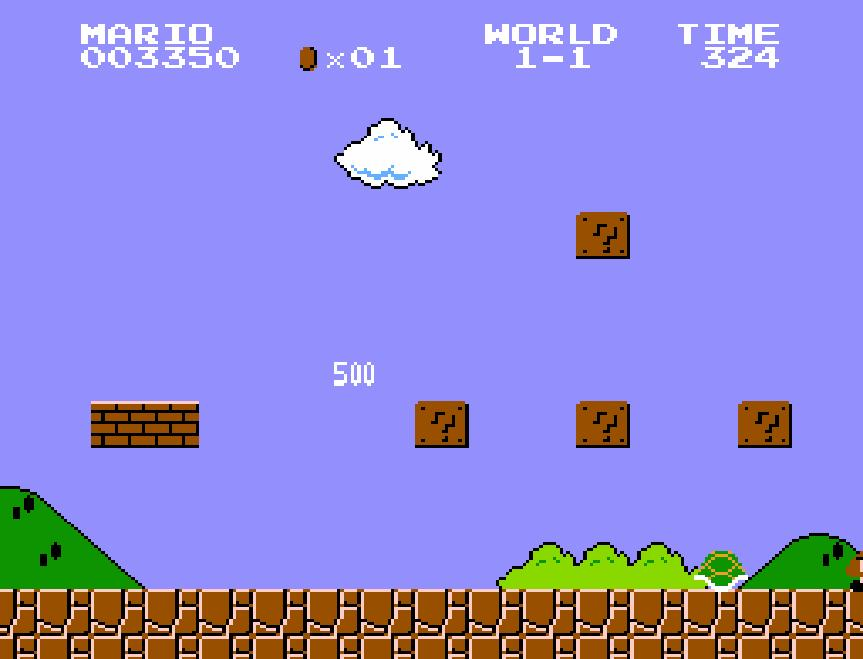little_mario: (348, 529, 406, 579)
